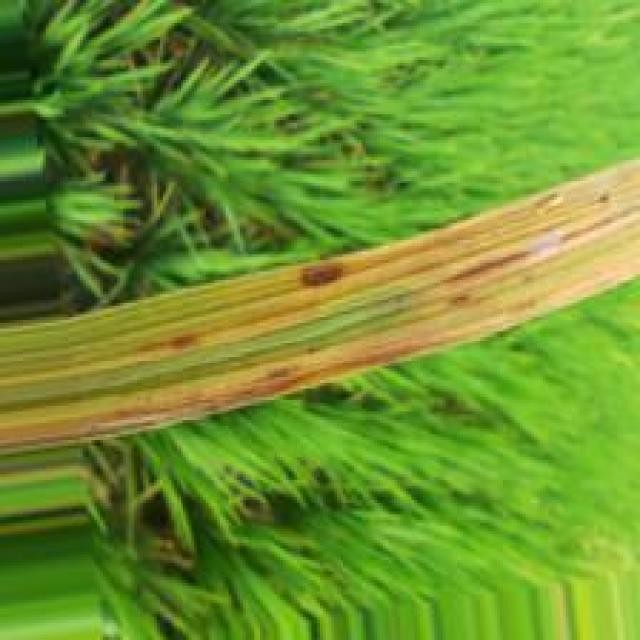Leaf_Blast: (2, 317, 511, 451), (437, 199, 640, 290), (299, 260, 359, 290), (164, 327, 210, 351)
